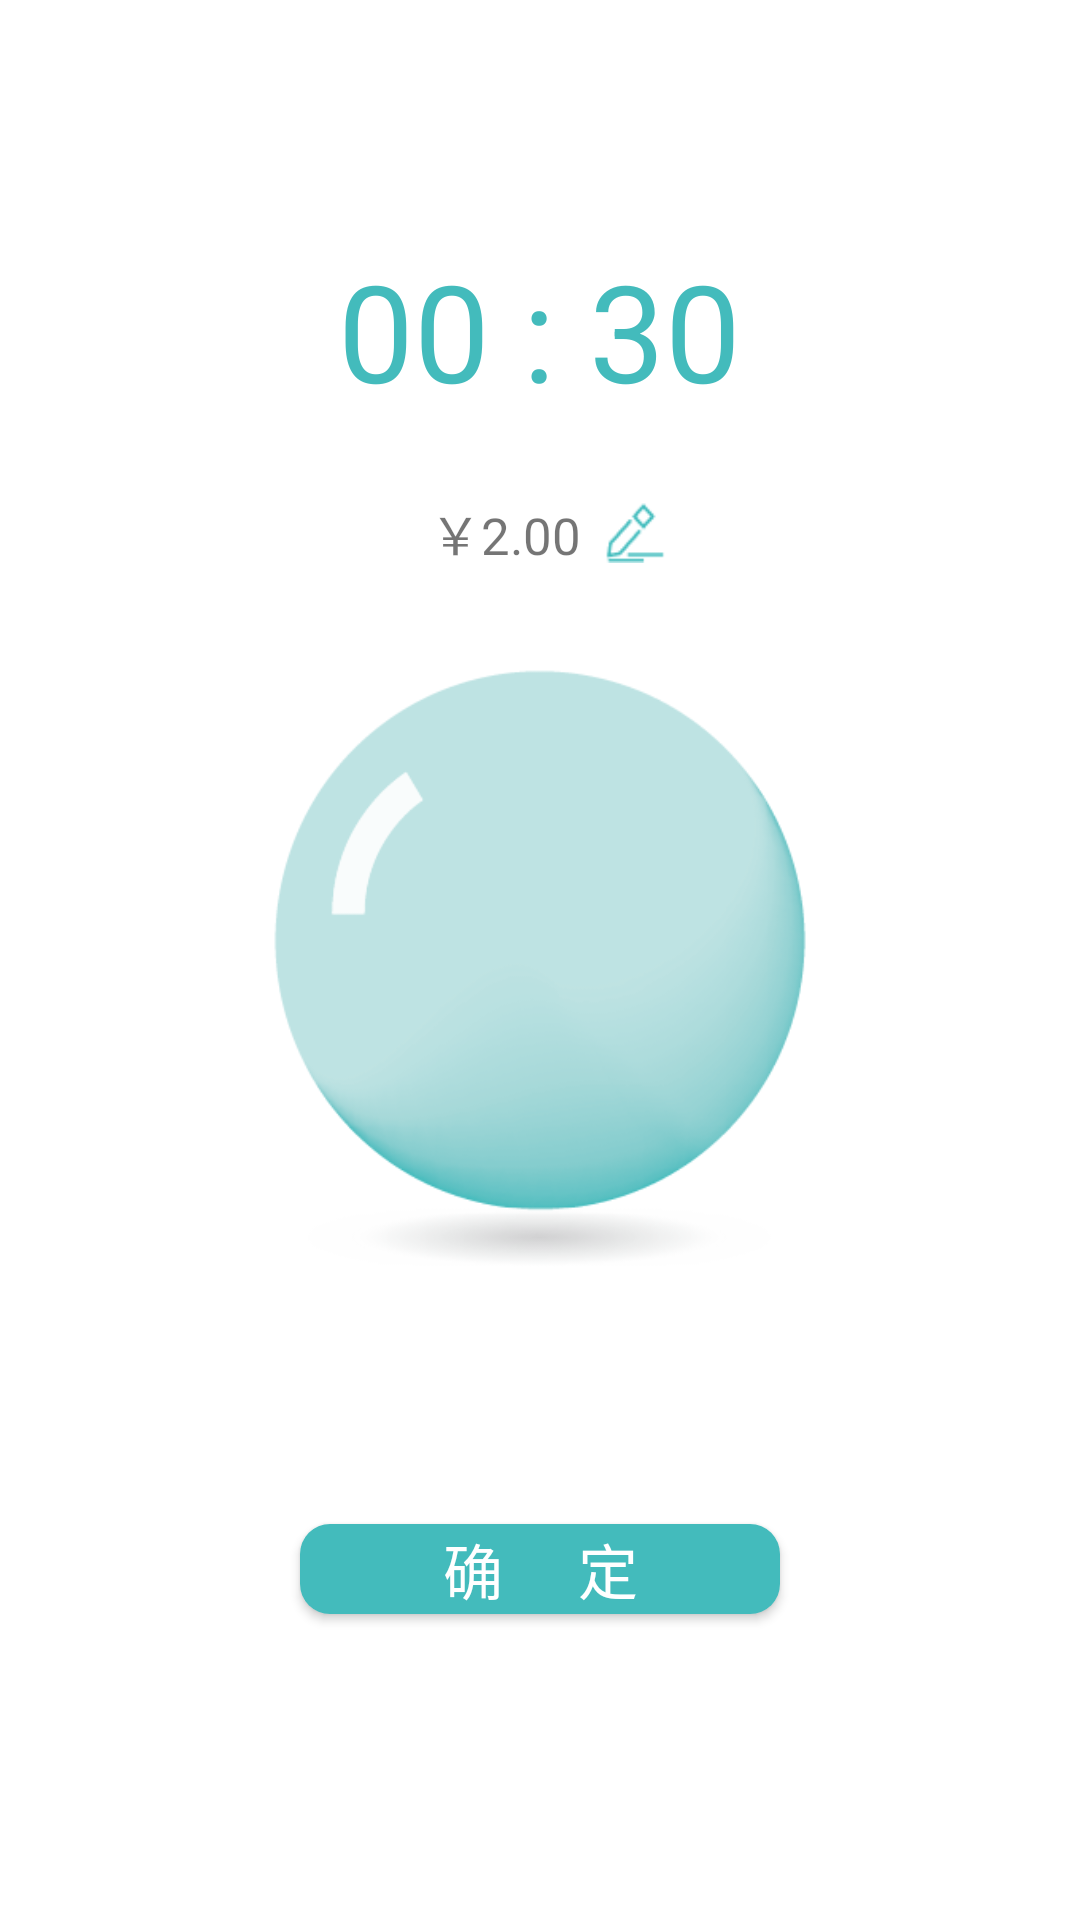

Icons on this 1080x1920 Android screen, each with its box as detection(x1, y1, x2, y2):
changemoney: detection(606, 503, 664, 563)
